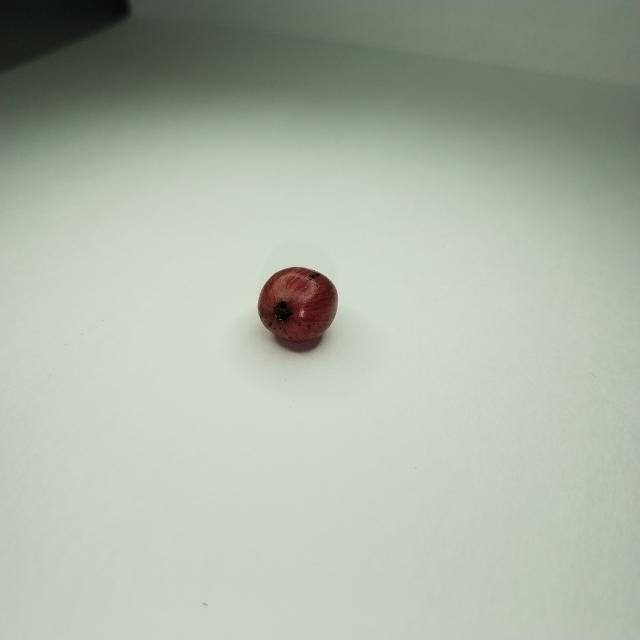Infectado: (257, 267, 338, 340)
